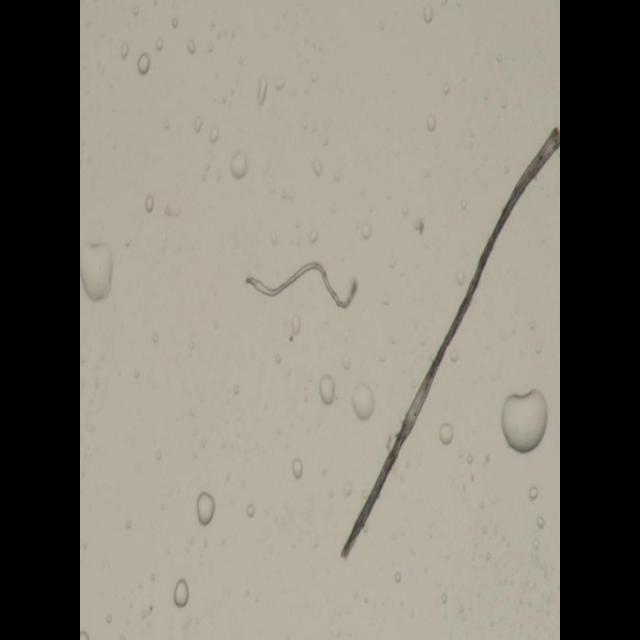Fibre: (340, 128, 560, 562)
